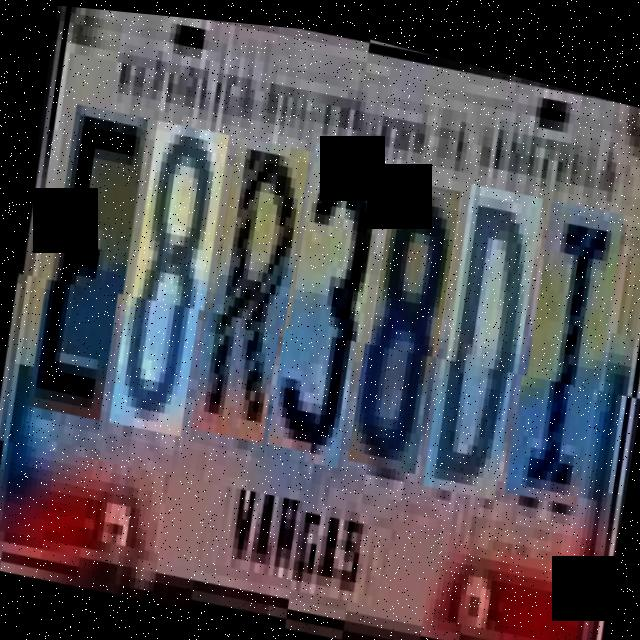3: (266, 143, 388, 472)
8: (107, 122, 230, 452), (348, 168, 463, 478)
D: (422, 172, 545, 503)
E: (27, 107, 150, 436)
I: (504, 188, 626, 508)
R: (189, 137, 311, 458)
